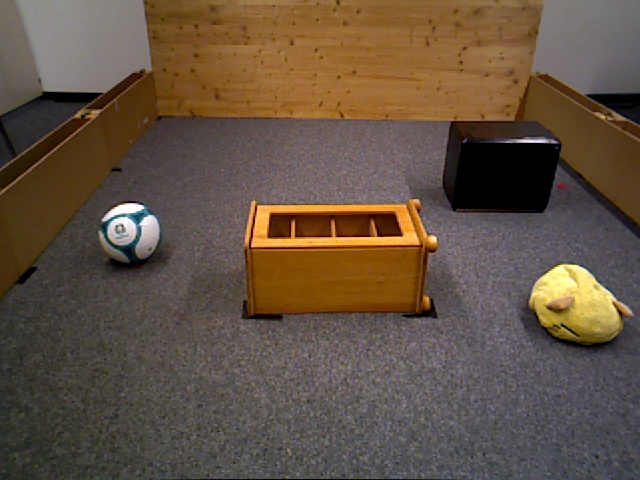grasp: (526, 260, 625, 347)
kick: (100, 200, 162, 266)
push: (446, 120, 561, 213)
